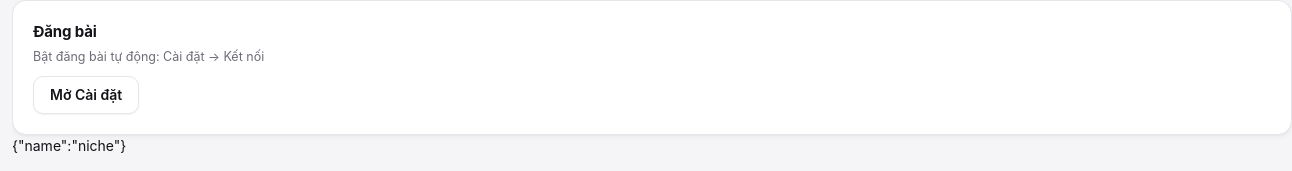
no key shows the hint and opens settings on the connection tab
Expected: the text "Bật đăng bài tự động: Cài đặt → Kết nối" is shown, [33,48,264,64]
What coordinates should you click on to do the following:
click the button "Mở Cài đặt"
I would click on:
 (86, 95)
Its box is [33,76,139,114].
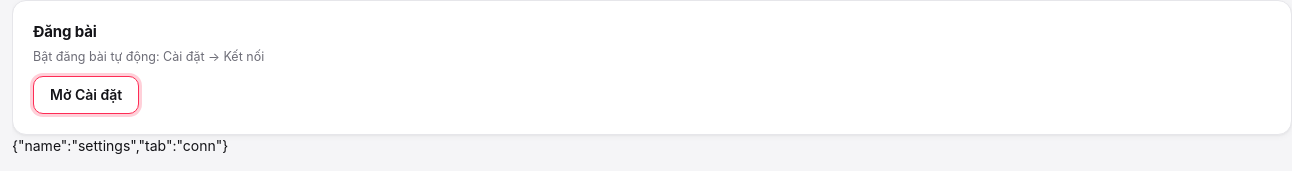
Expected: the text with test id "route" shows "\"tab\":\"conn\"", [12,137,228,154]
